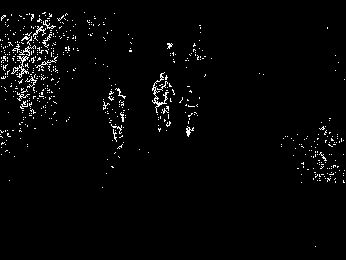person: (101, 87, 128, 141), (152, 73, 174, 133), (179, 86, 203, 138)
